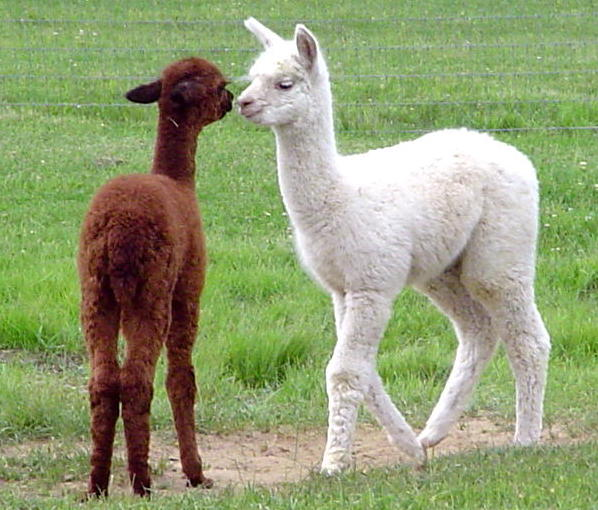alpaca: (237, 15, 553, 475), (74, 53, 234, 501)
